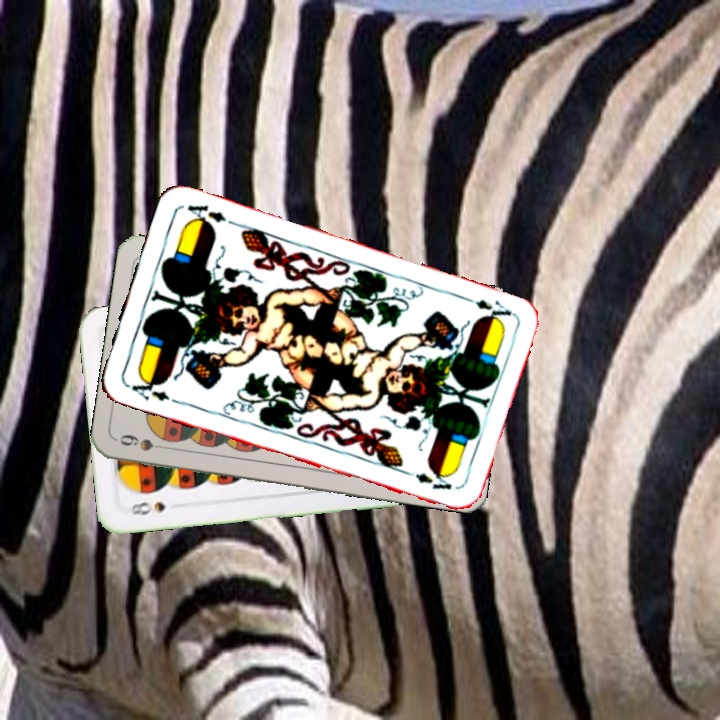EA: (123, 372, 180, 406), (458, 292, 515, 326)
S8: (127, 497, 169, 518)
S9: (116, 430, 174, 454)
